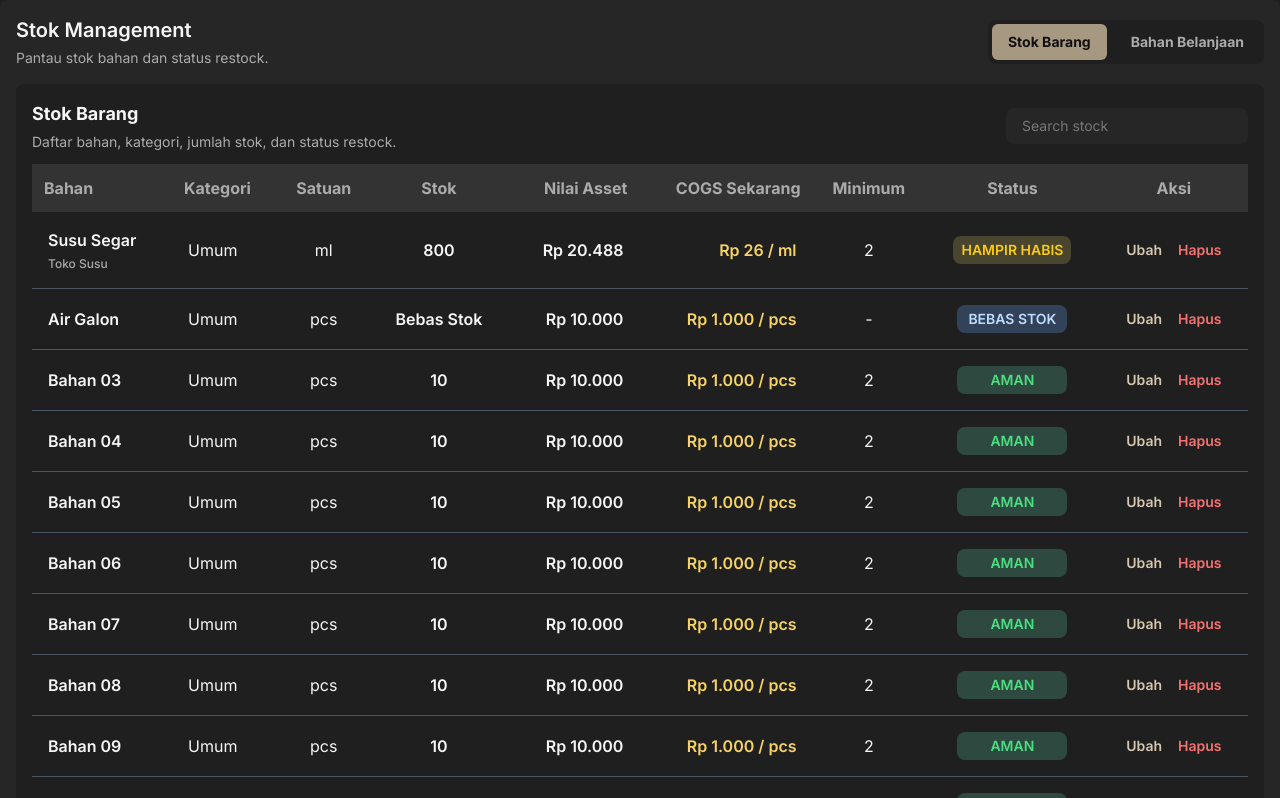
Scenario: stock management › recomputes COGS from a package price and saves it
Click the button "Ubah" in the row of "Susu Segar": (1144, 250) [1126,240,1162,260]
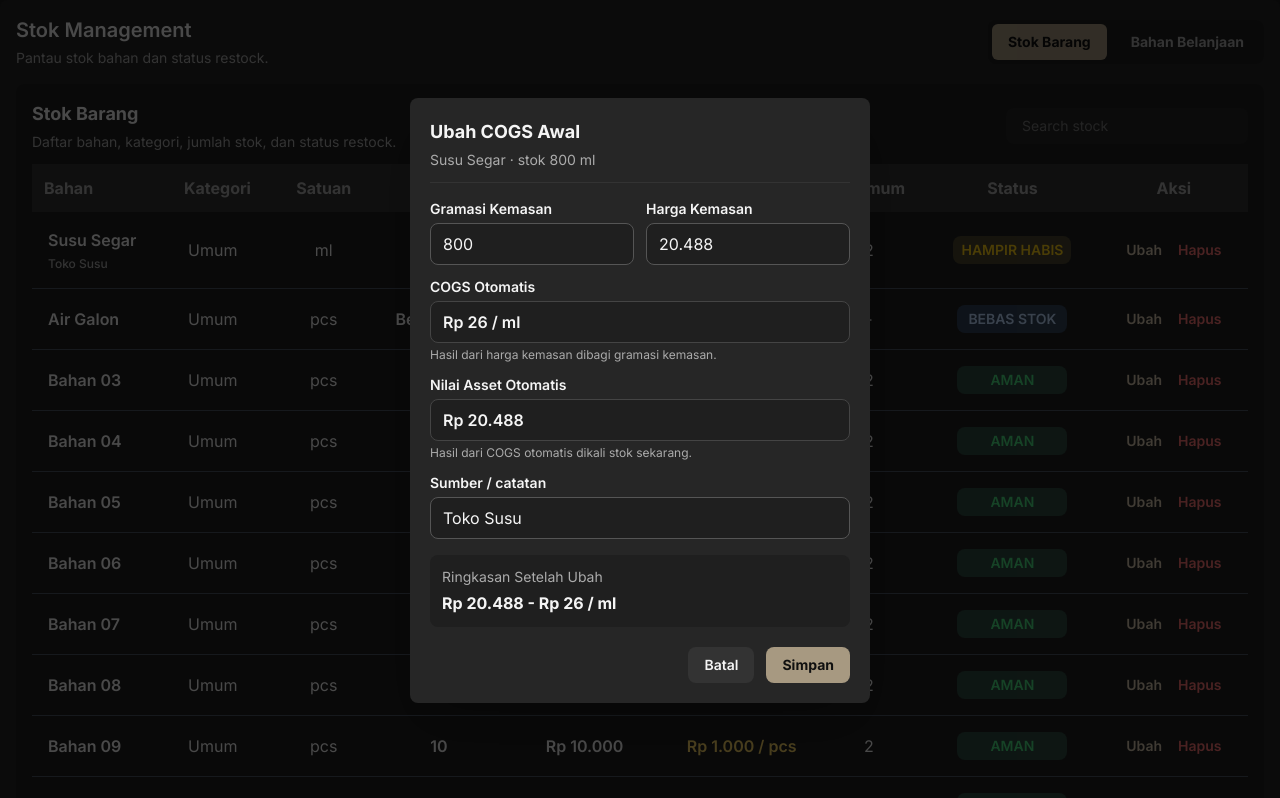
Expected: the field with placeholder "Contoh: 800 ml" holds "800"
Expected: the field with placeholder "Contoh: 169000" holds "20.488", [646,222,850,264]
Replace the text in the field with placeholder "Contoh: 800 ml" with "1000": (532, 244) [430,222,634,264]
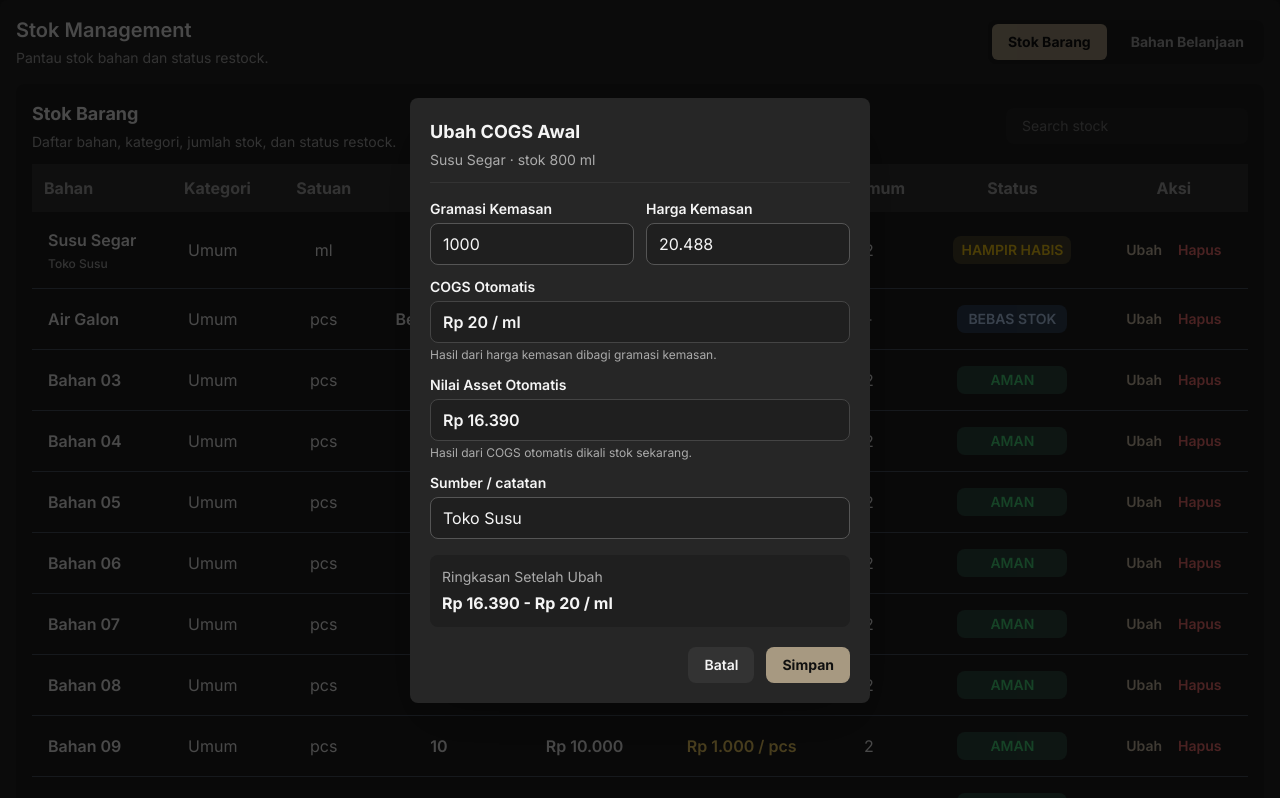
Replace the text in the field with placeholder "Contoh: 169000" with "30.000": (748, 244) [646,222,850,264]
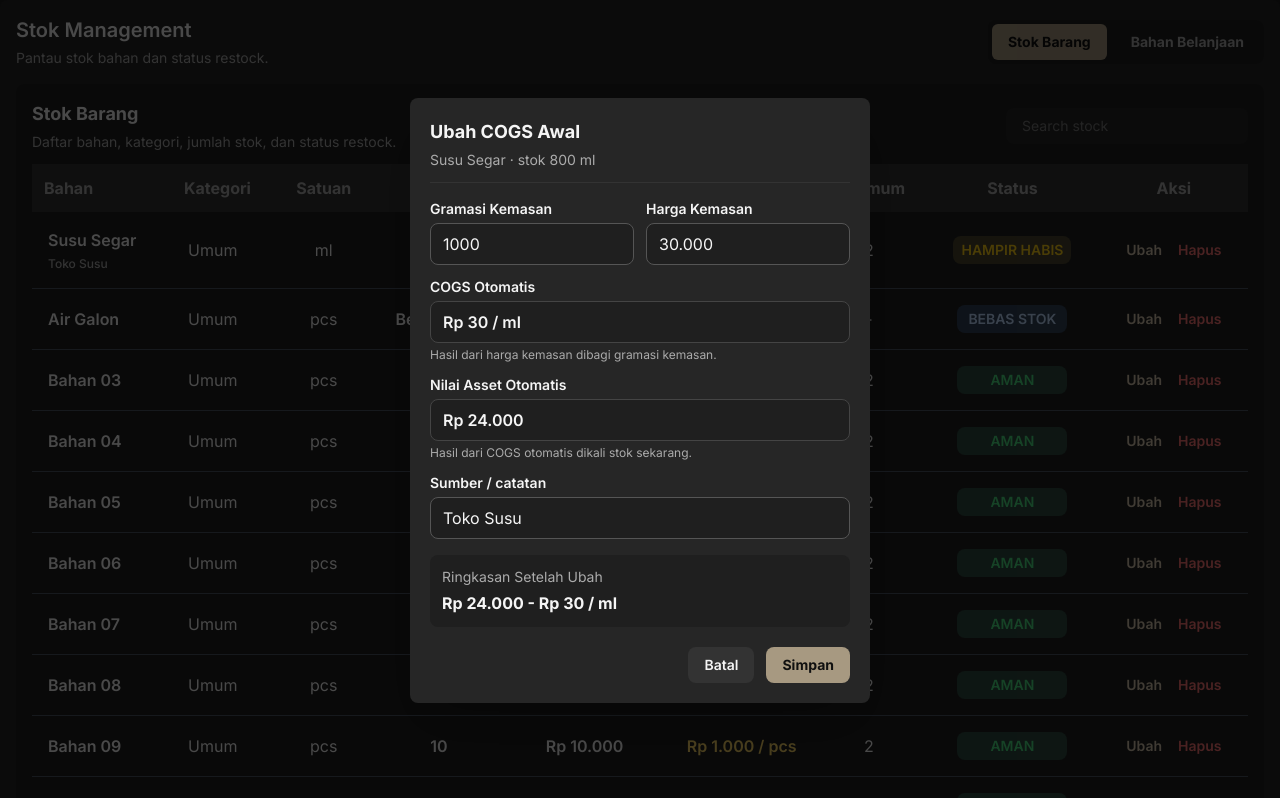
Expected: the form shows "Rp 24.000 - Rp 30 / ml", [410,98,870,702]
Replace the text in the field with placeholder "Contoh: Setup COGS Awal" with "Setup": (640, 518) [430,496,850,538]
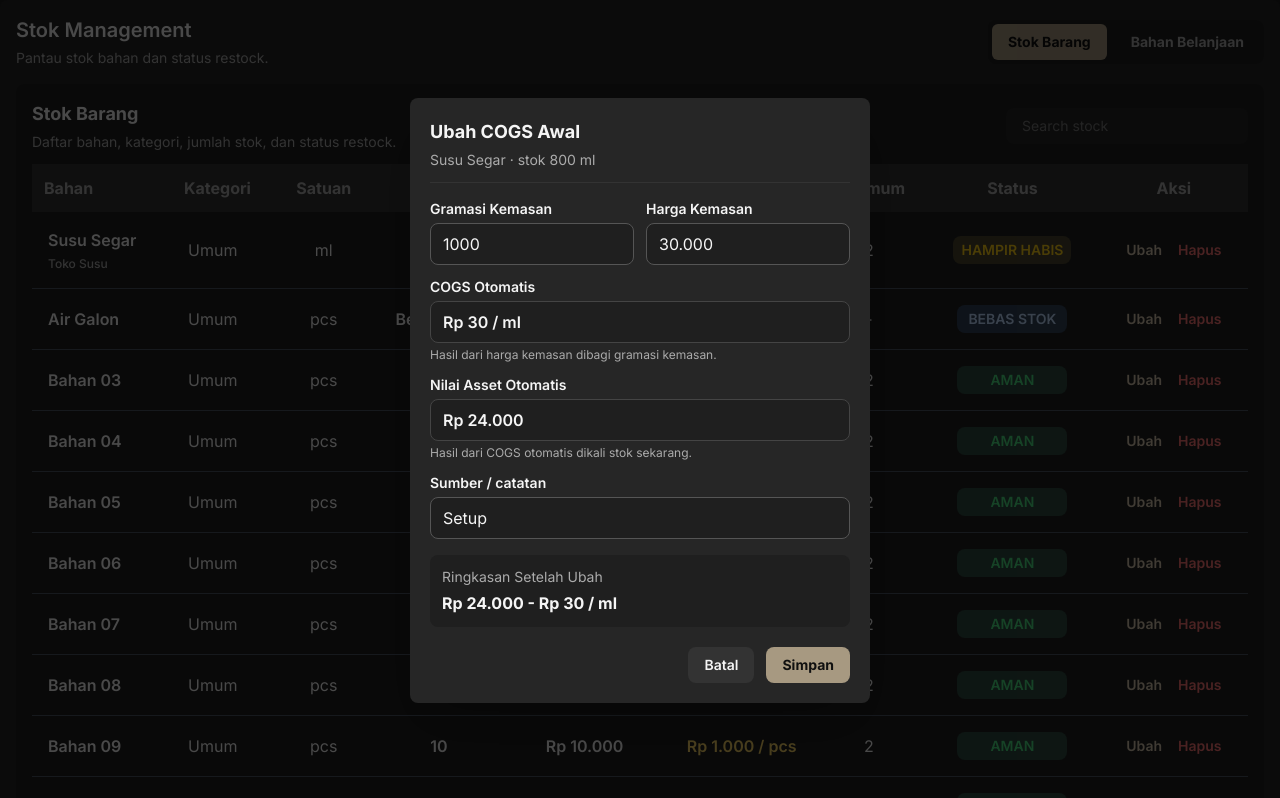
Click the button "Simpan": (808, 664) [766,646,850,682]
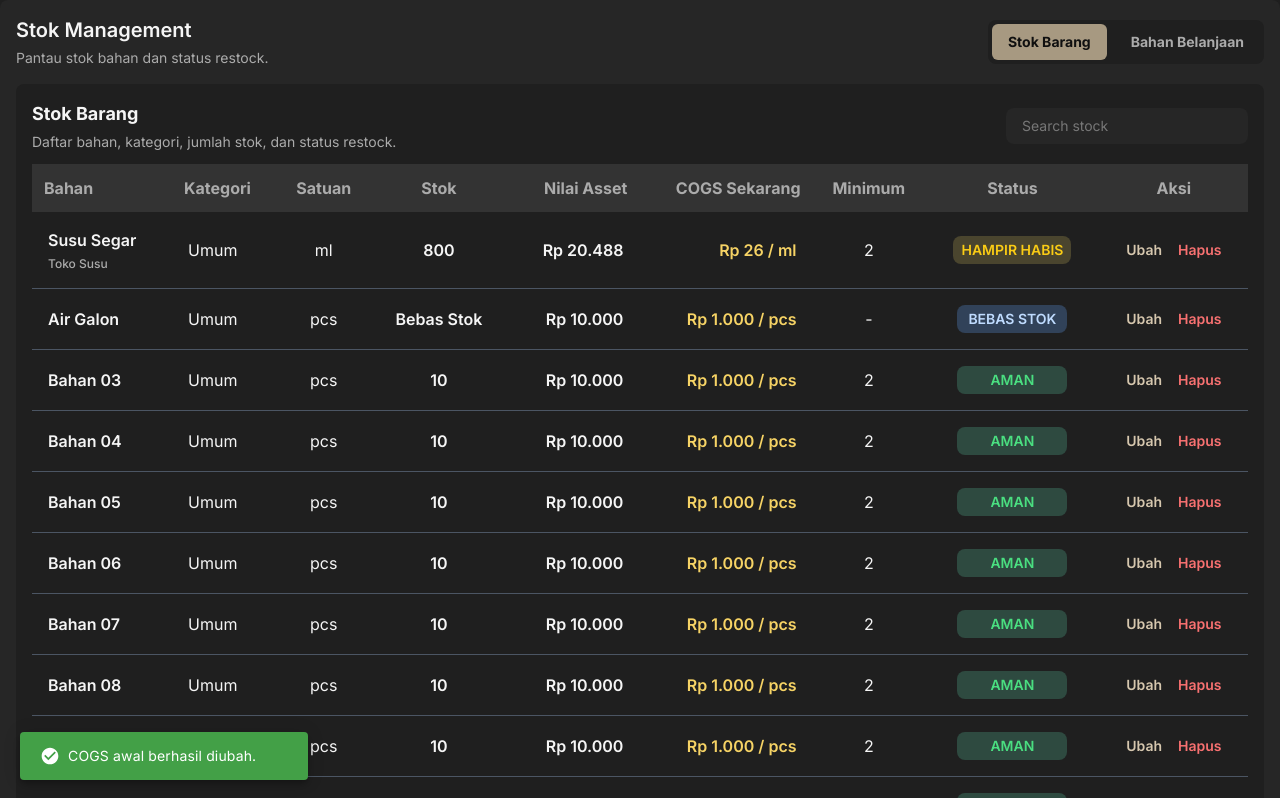
Expected: the text "COGS awal berhasil diubah." is shown, [40,746,256,766]
